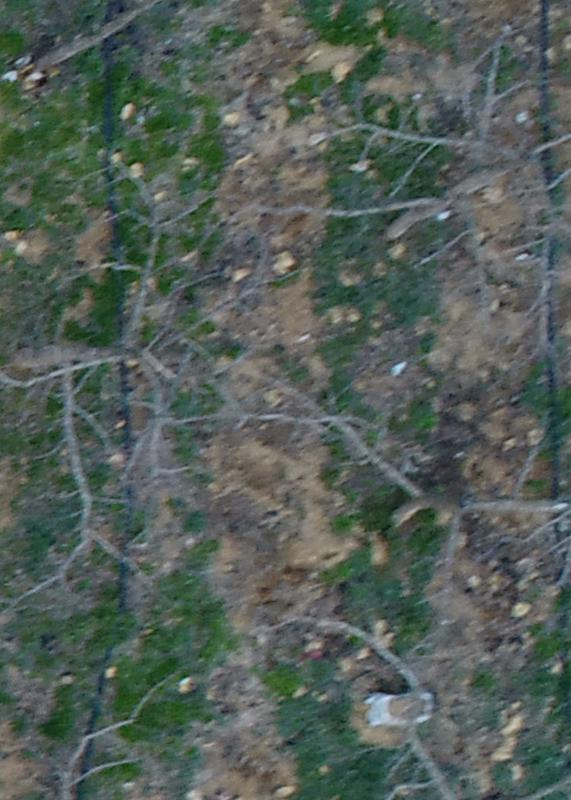apple: (10, 210, 402, 543), (300, 600, 561, 790), (10, 10, 268, 144)
